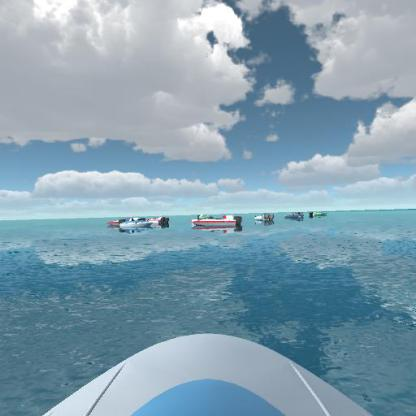usv0: (307, 205, 332, 219), (194, 209, 216, 221)
usv1: (252, 208, 282, 227), (122, 215, 153, 231), (285, 207, 305, 223)
usv3: (193, 212, 245, 232), (147, 211, 174, 230), (105, 214, 126, 229)
